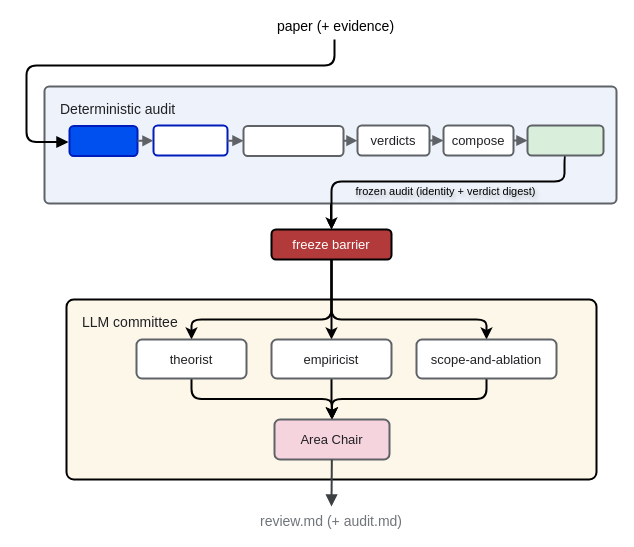
The diagram is 634 pixels wide and 547 high, and some of its shapes have lost their labels. The centre of each missing label's shape, as x and y in pixels:
claims: [190,140]
freeze: [565,140]
mech-check: [293,140]
parse: [103,140]
